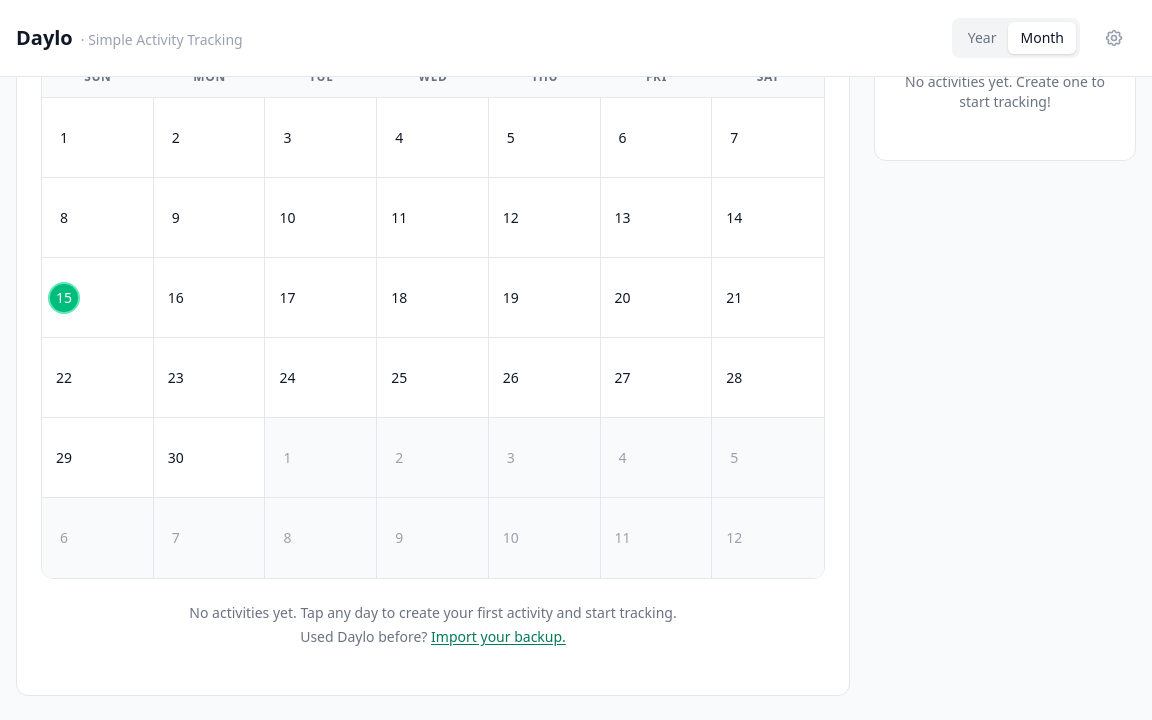
Test: the way into import from an empty app › opens Import from the line under the empty month
This screenshot has width=1152, height=720.
(page scrolled)
Click the button "Import your backup." at (498, 649), box [431,627,566,671]
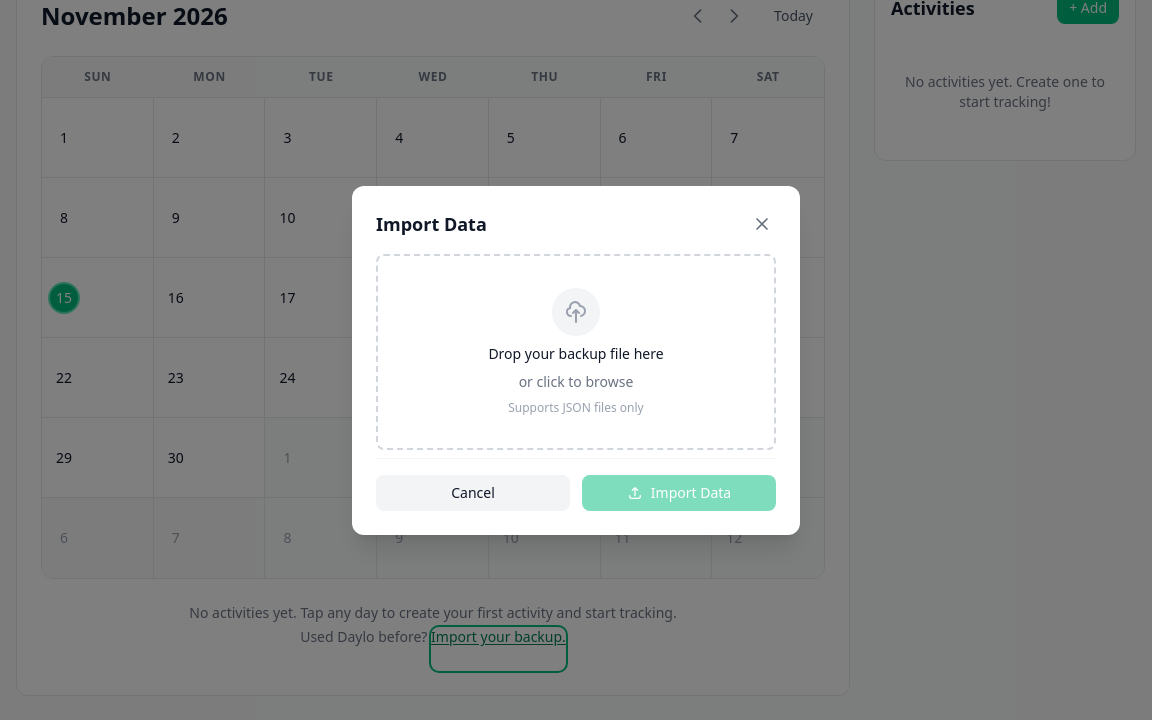
expect the dialog "Import Data" is shown: met, box [352,186,800,534]
